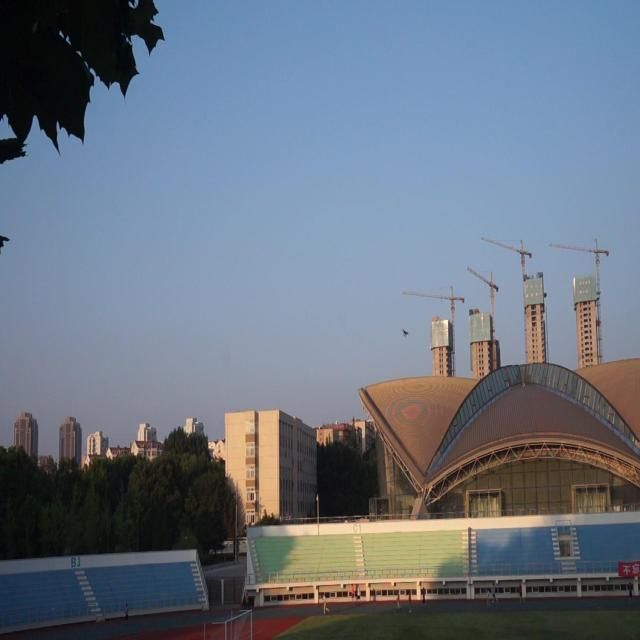drone: (399, 325, 411, 339)
